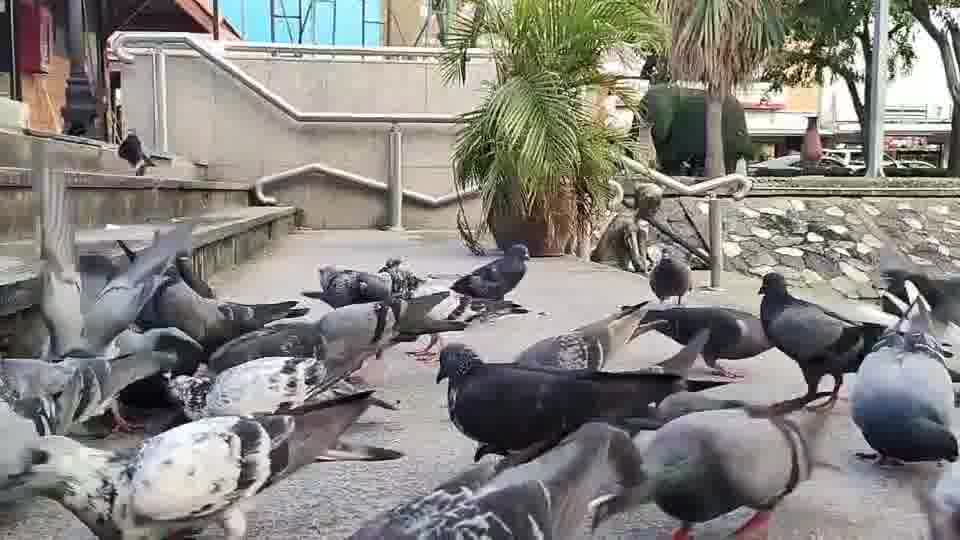Pigeon: (435, 334, 734, 464), (846, 291, 958, 467), (756, 270, 884, 409), (623, 304, 773, 379), (447, 241, 531, 320), (647, 254, 692, 305), (117, 133, 156, 176)
